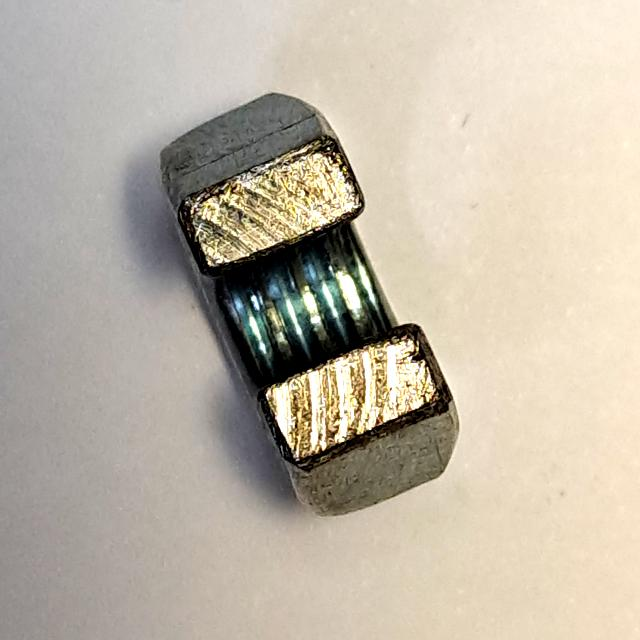Side-Fracture: (147, 85, 482, 534)
